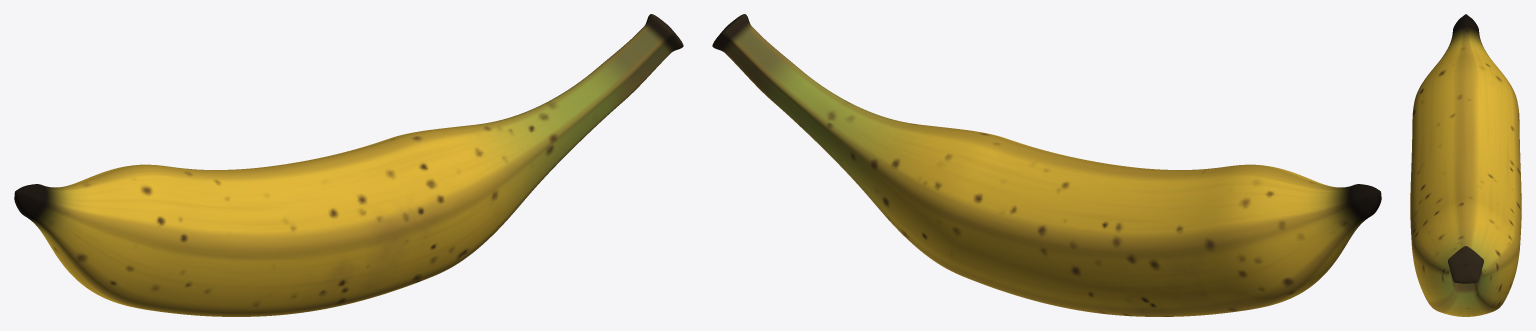
The model's file is banane.glb.
3 views of the same model, side by side, from view 1: azimuth 30°, elevation 25°; view 2: azimuth 150°, elevation 25°; view 3: azimuth 270°, elevation 25° (orthographic). The views are drawn at different scales.
Visible parts, largest first — view 1: Banane_Web; view 2: Banane_Web; view 3: Banane_Web.
Boxes of the visible parts, bbox=[...] form: Banane_Web: bbox=[14, 14, 683, 316]; Banane_Web: bbox=[712, 14, 1381, 316]; Banane_Web: bbox=[1410, 14, 1521, 316].
Bounding box in the file's own units: 0.192 × 0.0564 × 0.0348.
1 material, 1 textured.
